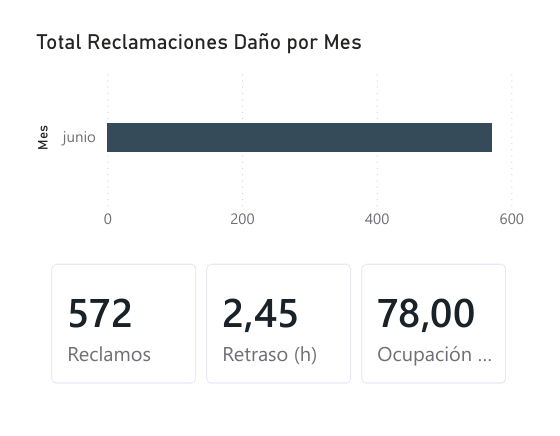

What the dashboard file says about the page in this screenshot:
{"tool":"powerbi","page":{"name":"Tooltip_Carrier","canvas":[400,300],"ordinal":5},"visuals":[{"type":"barChart","fields":{"Category":["calendario.Mes"],"Y":["_Medidas.Total Reclamaciones Daño"]},"box":[0,0,400,170],"z":0},{"type":"cardVisual","fields":{"Data":["_Medidas.Total Reclamaciones Daño","_Medidas.Retraso Promedio (Horas)","_Medidas.Utilizacion Almacen Promedio"]},"box":[0,170,400,130],"z":1000}]}

Visuals, with their boxes on the page's 400x300 design canvas (x1, y1, x2, y2). These are canvas units, not pixel positions in the 560x436 screenshot, which may show the page scaled, cropped or inside an application window:
barChart - calendario.Mes x _Medidas.Total Reclamaciones Daño: locate(0, 0, 400, 170)
cardVisual - _Medidas.Total Reclamaciones Daño x _Medidas.Retraso Promedio (Horas): locate(0, 170, 400, 300)
